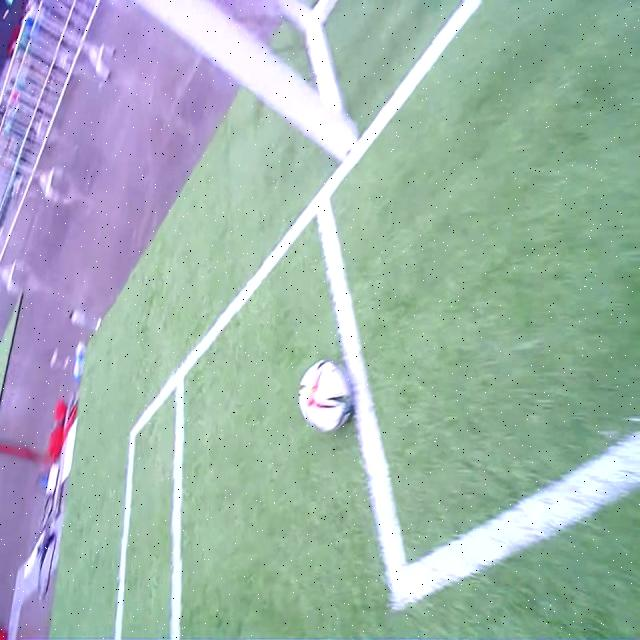ball: (298, 358, 354, 428)
